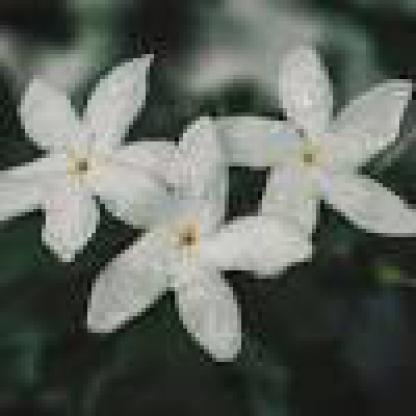Melati: (80, 126, 313, 346), (1, 30, 172, 276), (184, 55, 413, 238)
